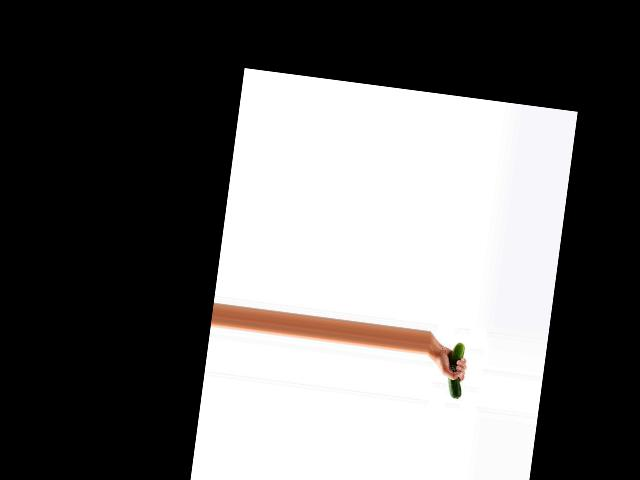cucumber: (444, 342, 468, 399)
